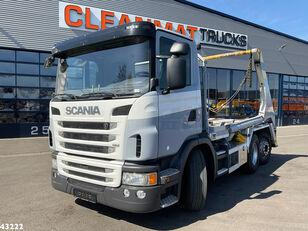vehicle: (45, 21, 278, 213)
